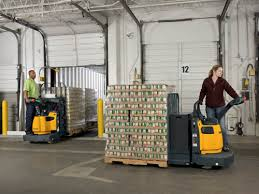Pallet Jack: (106, 93, 247, 171), (22, 84, 88, 144)
